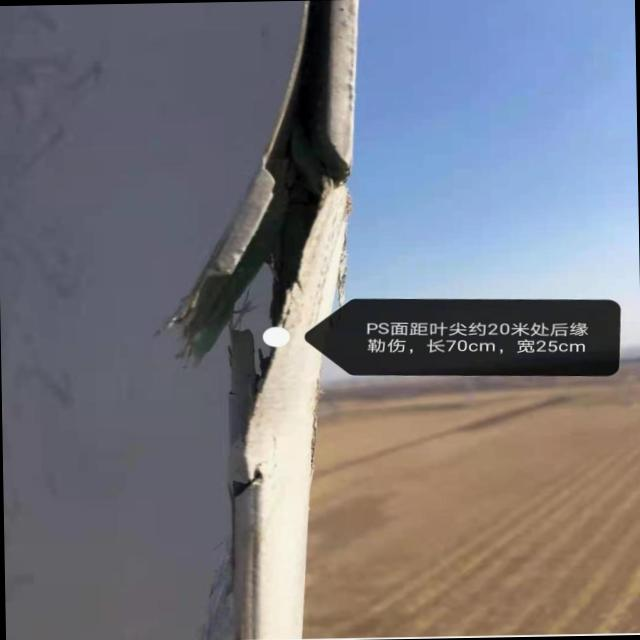crack: (168, 10, 365, 492)
